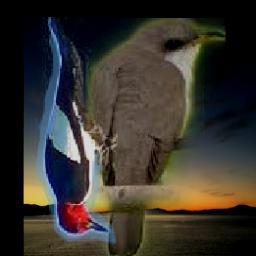Cuckoo: (86, 19, 227, 256)
Woodpecker: (27, 18, 118, 251)
